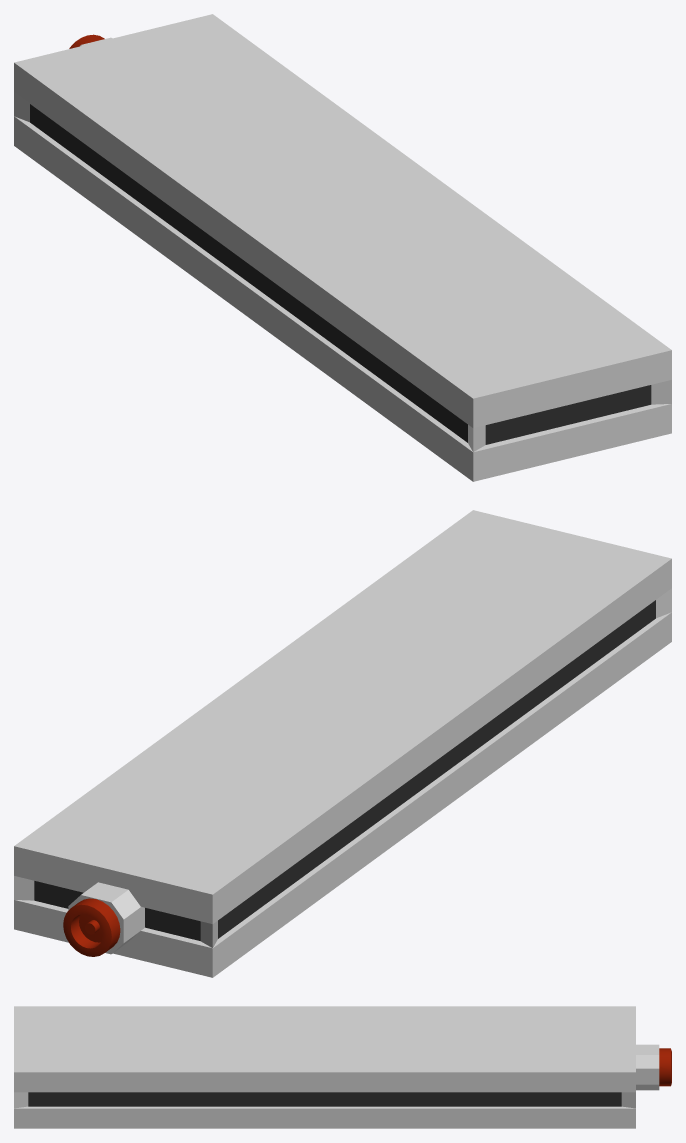
File: NeonLamp.gltf
The picture shows the model from 3 angles, top to bottom: view 1: azimuth 30°, elevation 25°; view 2: azimuth 150°, elevation 25°; view 3: azimuth 270°, elevation 25°; orthographic projection. The views are drawn at different scales.
Visible parts, largest first — view 1: case; view 2: case; view 3: case.
Boxes of the visible parts, bbox=[...] form: case: bbox=[14, 14, 671, 481]; case: bbox=[14, 510, 671, 977]; case: bbox=[14, 1006, 671, 1128].
Bounding box in the file's own units: 0.25 × 0.1 × 1.06.
